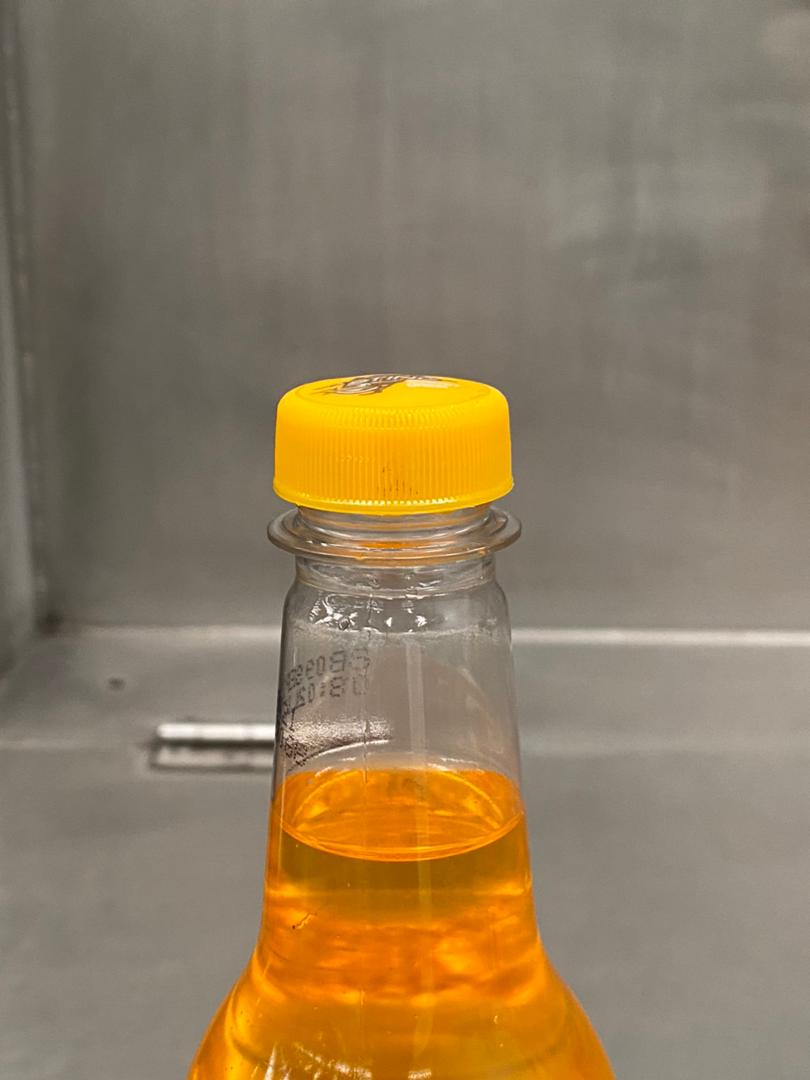Broken Cap: (160, 333, 630, 613)
